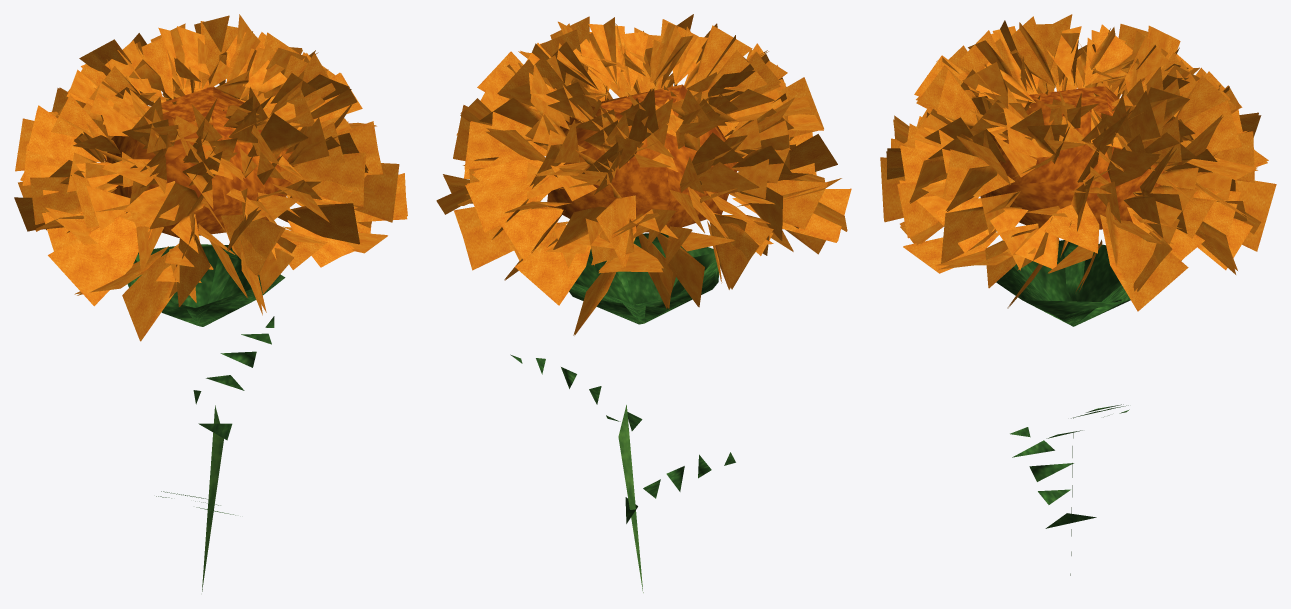
File: flor_cempasuchil_medio.obj
The picture shows the model from 3 angles, left to right: view 1: azimuth 30°, elevation 25°; view 2: azimuth 150°, elevation 25°; view 3: azimuth 270°, elevation 25°; orthographic projection.
Visible parts, largest first — view 1: Flor_Cempasuchil; view 2: Flor_Cempasuchil; view 3: Flor_Cempasuchil.
Boxes of the visible parts, x1=… form: Flor_Cempasuchil: x1=14, y1=14, x2=407, y2=591; Flor_Cempasuchil: x1=436, y1=14, x2=851, y2=592; Flor_Cempasuchil: x1=880, y1=14, x2=1276, y2=575.
Bounding box in the file's own units: 0.2407 × 0.3581 × 0.236.
4 materials, 4 textured.
